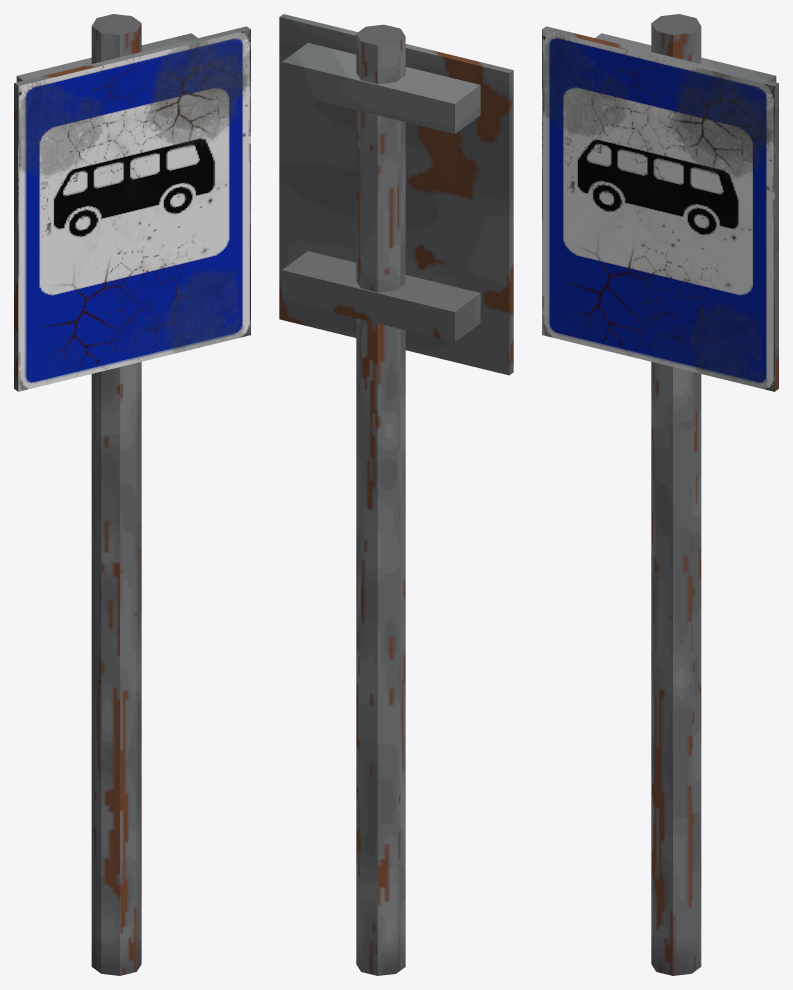
The model's file is SM_BusStopSign.fbx.
The picture shows the model from 3 angles, left to right: view 1: azimuth 30°, elevation 25°; view 2: azimuth 150°, elevation 25°; view 3: azimuth 330°, elevation 25°; orthographic projection.
Parts seen in each view (by area): view 1: SM_BusStopSign; view 2: SM_BusStopSign; view 3: SM_BusStopSign.
Part boxes in pixels (x1,y1,x2,y2): SM_BusStopSign: (14,14,250,975); SM_BusStopSign: (279,14,513,975); SM_BusStopSign: (542,14,778,975).
Bounding box in the file's own units: 63.89 × 247 × 14.5.
1 material, 1 textured.
